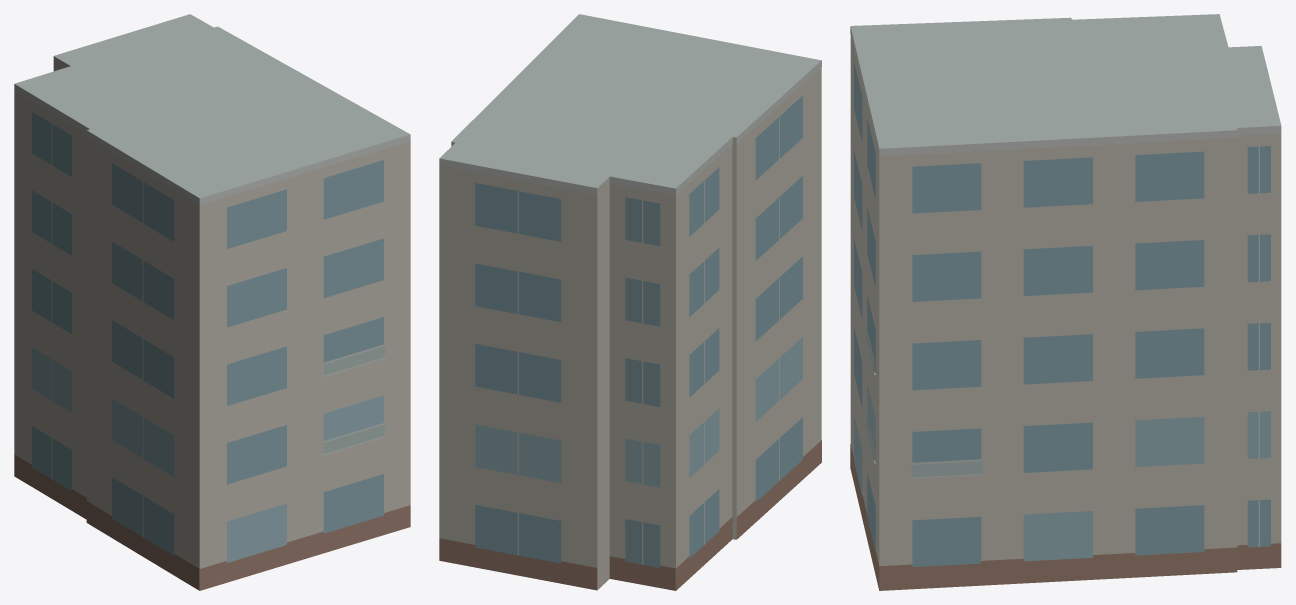
File: survey-upis-33037193.glb
The picture shows the model from 3 angles, left to right: view 1: azimuth 30°, elevation 25°; view 2: azimuth 150°, elevation 25°; view 3: azimuth 270°, elevation 25°; orthographic projection. The views are drawn at different scales.
Parts seen in each view (by area): view 1: survey-upis-33037193.tmp; view 2: survey-upis-33037193.tmp; view 3: survey-upis-33037193.tmp.
Part boxes in pixels (x1,y1,x2,y2): survey-upis-33037193.tmp: (14, 14, 410, 590); survey-upis-33037193.tmp: (439, 14, 821, 590); survey-upis-33037193.tmp: (850, 14, 1281, 590).
Size of the model in its own units: 9.5 by 14.5 by 12.82.
